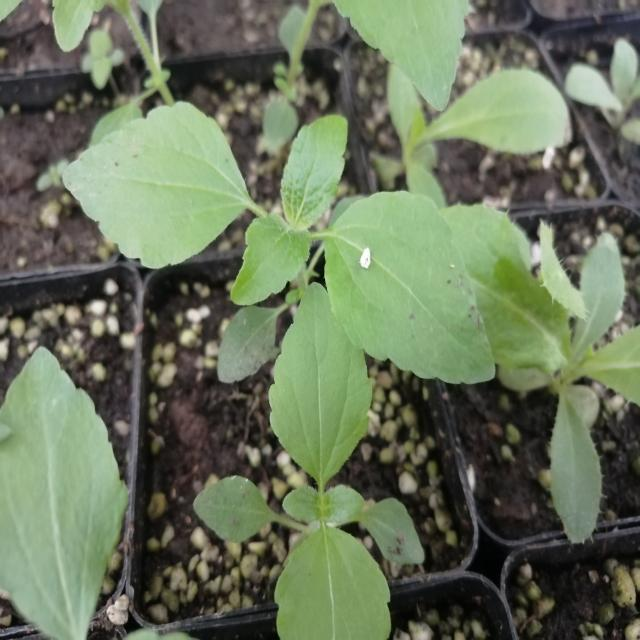billygoat_weed: (85, 116, 501, 411), (187, 265, 413, 640)
